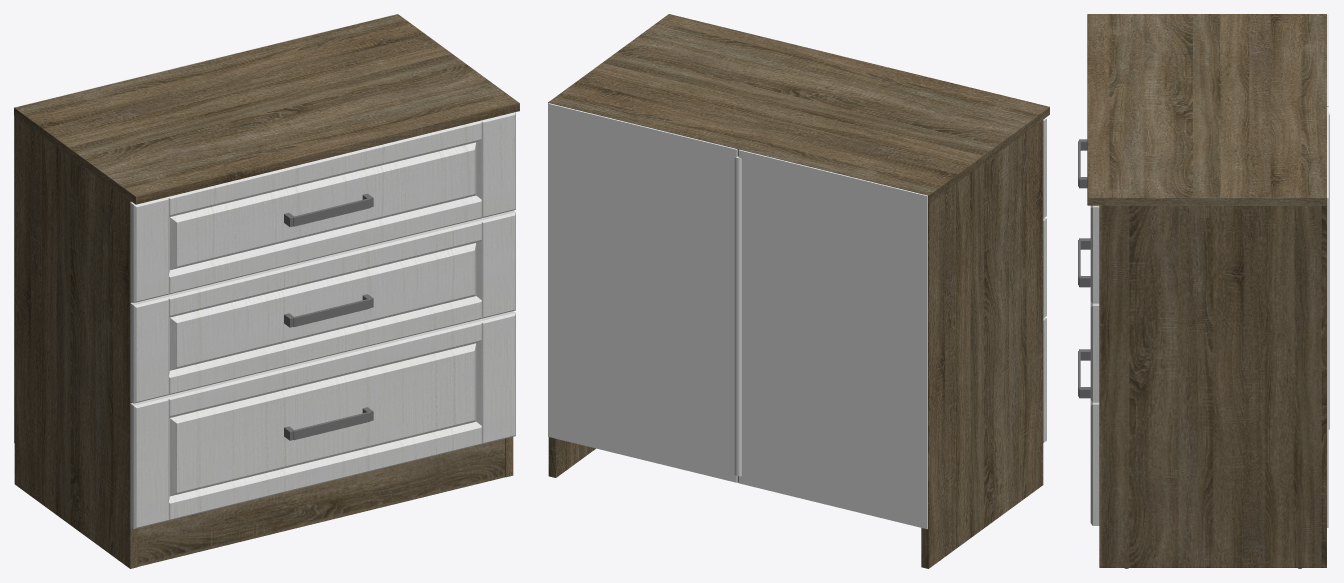
File: ilona_sb_3076.glb
3 views of the same model, side by side, from view 1: azimuth 30°, elevation 25°; view 2: azimuth 150°, elevation 25°; view 3: azimuth 270°, elevation 25° (orthographic).
Visible parts, largest first — view 1: body, NT_furniture, NT_body_wall; view 2: NT_body_wall, body; view 3: body, NT_body_wall, NT_furniture.
Boxes of the visible parts, bbox=[...] form: body: bbox=[14, 14, 519, 568]; NT_furniture: bbox=[284, 193, 373, 440]; NT_body_wall: bbox=[14, 14, 396, 442]; NT_body_wall: bbox=[548, 103, 927, 529]; body: bbox=[548, 14, 1049, 568]; body: bbox=[1087, 14, 1326, 567]; NT_body_wall: bbox=[1327, 14, 1329, 527]; NT_furniture: bbox=[1078, 139, 1090, 398].
Bounding box in the file's own units: 0.008 × 0.00754 × 0.00462.
5 materials, 1 textured.
